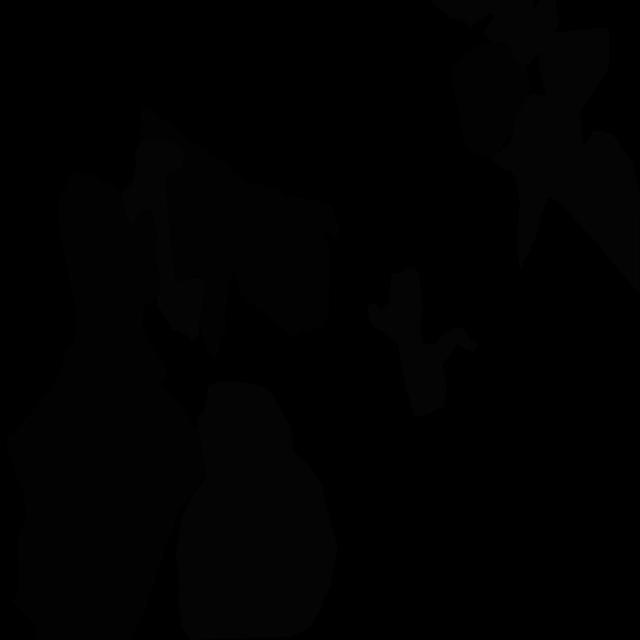cardboard: (11, 340, 206, 640), (138, 106, 340, 339), (23, 172, 160, 475), (166, 167, 234, 361), (452, 42, 532, 160), (6, 418, 72, 493), (49, 374, 105, 454)
soft_plastic: (176, 451, 338, 640), (490, 93, 640, 295), (121, 138, 204, 341), (368, 268, 478, 416), (198, 381, 294, 474), (430, 0, 559, 65), (538, 27, 610, 113)
